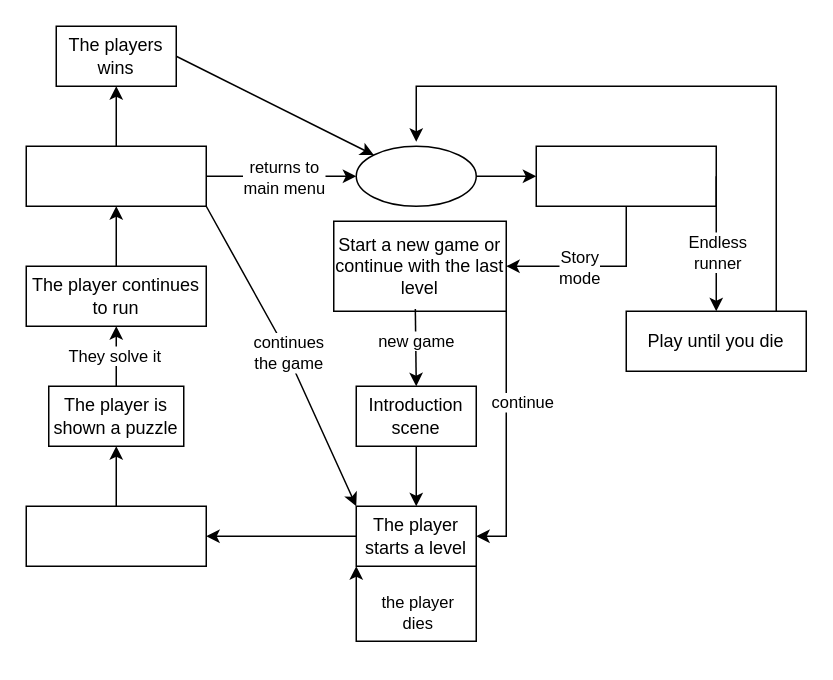
This 833x680 diagram has some shape labels left out. Each missing label, with the centre of its shape:
"Menu to choose the type of level" belongs at (x=625, y=175).
"Start" belongs at (x=415, y=175).
"The player gets to the end" belongs at (x=115, y=175).
"The player gets to the middle of the level" belongs at (x=115, y=535).
